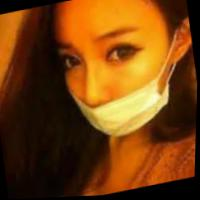WRONG: (49, 11, 177, 148)
